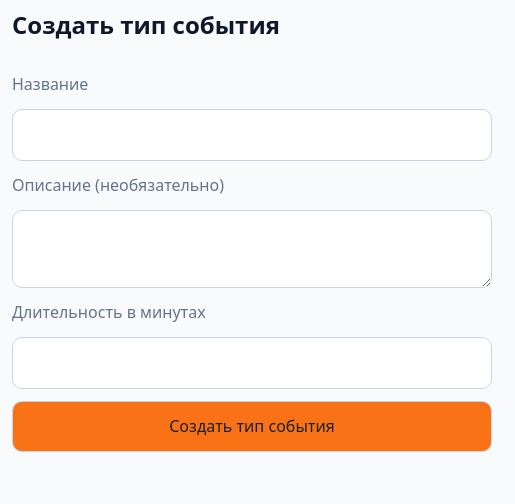
Test: creates an EventType with optional description using the typed client
Type "Консультация" into the field labelled "Название" at (252, 135), box 12,109 -> 492,161
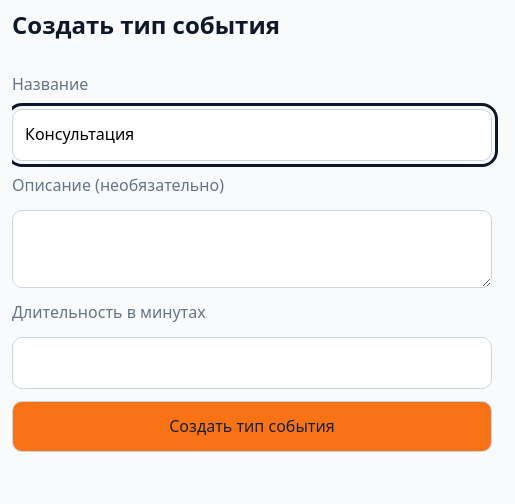
Type "Разбор проекта" into the text box labelled "Описание (необязательно)" at (252, 249), box 12,210 -> 492,288
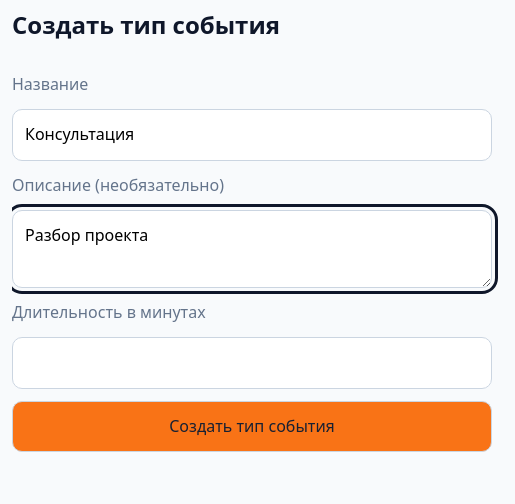
Type "45" into the number field labelled "Длительность в минутах" at (252, 363), box 12,337 -> 492,389
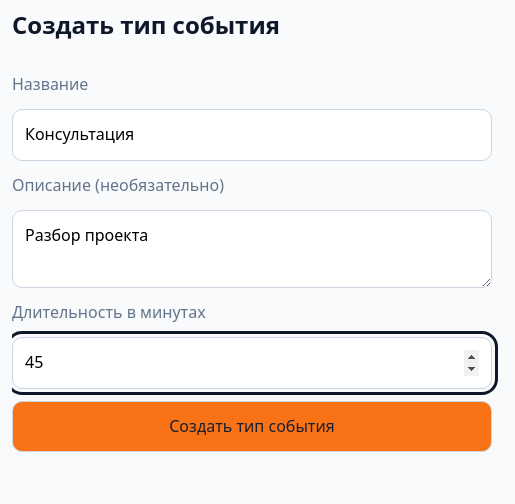
Click the button "Создать тип события" at (252, 427), box 12,401 -> 492,452
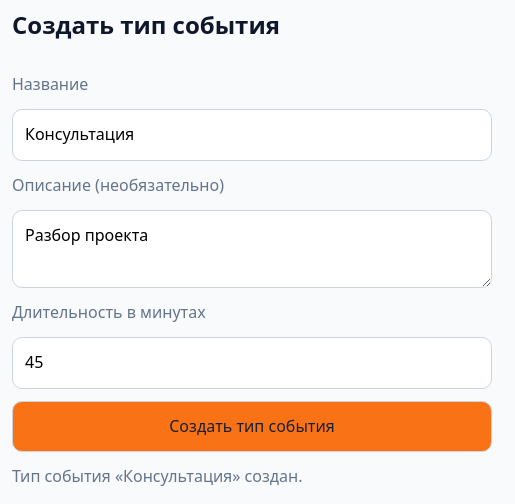
Now the message reads "Тип события «Консультация» создан.", box 12,465 -> 302,487
